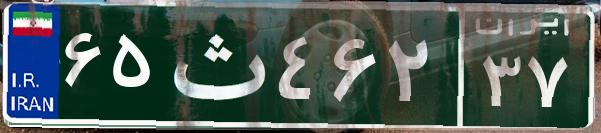2: (385, 28, 445, 110)
3: (475, 38, 525, 113)
4: (273, 28, 330, 110)
5: (110, 28, 158, 105)
6: (330, 28, 385, 110), (57, 26, 110, 107)
7: (525, 38, 570, 115)
ث: (158, 15, 273, 115)
